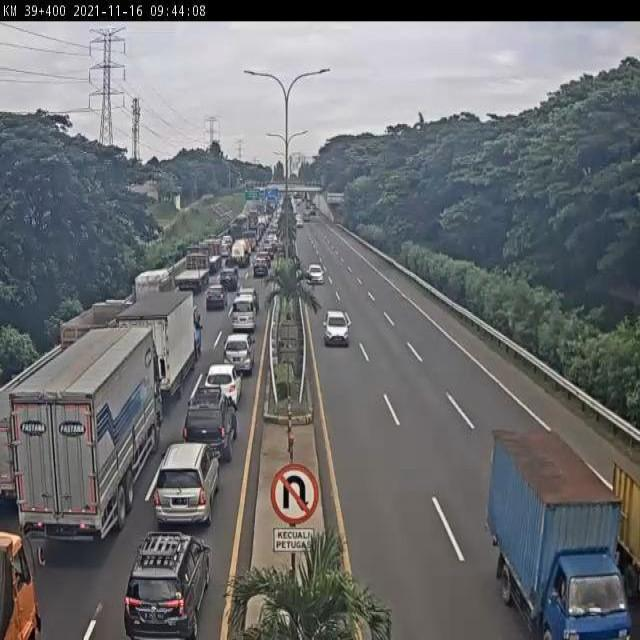car: (119, 520, 227, 640), (149, 433, 232, 518), (170, 382, 239, 462), (205, 353, 249, 418), (230, 281, 269, 344), (227, 327, 258, 381), (324, 308, 351, 353), (305, 262, 332, 298)
truck-l-: (2, 330, 164, 546)
truck-m-: (482, 420, 640, 640), (119, 292, 202, 403), (58, 296, 143, 384)
